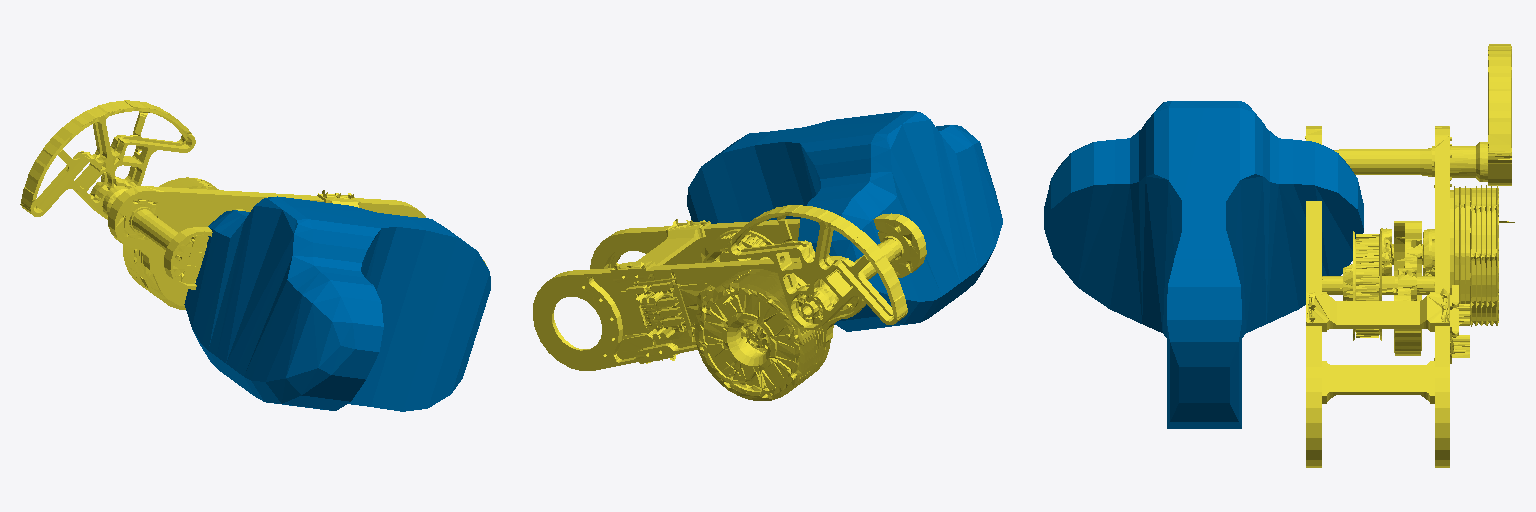
robot.urdf — drc_skeleton:
<?xml version="1.0"?>
<robot name="drc_skeleton">

    <link name="base_link" />

    <link name="r_foot">
        <inertial>
            <mass value="4.05" />
            <origin xyz="0.027 0 -0.067" rpy="0 -0 0" />
            <inertia ixx="0.002" ixy="0" ixz="0" iyy="0.007" iyz="0" izz="0.008" />
        </inertial>
        <visual>
            <origin xyz="0 0.1 0" rpy="0 -0 0" />
            <geometry>
                <mesh filename="package://atlas_description/meshes_v3/r_foot.dae" scale="1 1 1" />
            </geometry>
        </visual>
        <visual>
            <origin xyz="0 -0.1 0" rpy="0 -0 0" />
            <geometry>
                <mesh filename="package://atlas_description/meshes_v3/l_foot.dae" scale="1 1 1" />
            </geometry>
        </visual>
        <collision>
            <origin xyz="0 0.1 0" rpy="0 -0 0" />
            <geometry>
                <mesh filename="package://atlas_description/meshes_v3/r_foot.stl" scale="1 1 1" />
            </geometry>
        </collision>
    </link>
    
    <link name="r_lleg">
        <inertial>
            <mass value="11.0" />
            <origin xyz="0 0 0.23" rpy="0 -0 0" />
            <inertia ixx="0.077" ixy="-0" ixz="-0.003" iyy="0.076" iyz="-0" izz="0.01" />
        </inertial>

        <visual>
            <origin xyz="0 -0.1 0.422" rpy="0 -0 0" />
            <geometry>
                <mesh filename="package://atlas_description/meshes_v3/r_lleg.dae" scale="1 1 1" />
            </geometry>
        </visual>
        <visual>
            <origin xyz="0 0.1 0.422" rpy="0 -0 0" />
            <geometry>
                <mesh filename="package://atlas_description/meshes_v3/l_lleg.dae" scale="1 1 1" />
            </geometry>
        </visual>

        <collision>
            <origin xyz="0 0 0.422" rpy="0 -0 0" />
            <geometry>
                <mesh filename="package://atlas_description/meshes_v3/r_lleg.stl" scale="1 1 1" />
            </geometry>
        </collision>
    </link>
    
    <link name="r_uleg">
        <inertial>
            <mass value="18.4" />
            <origin xyz="0 0 0.16" rpy="0 -0 0" />
            <inertia ixx="0.09" ixy="0" ixz="0" iyy="0.09" iyz="0" izz="0.02" />
        </inertial>
        <visual>
            <origin xyz="0.05 -0.1 0.374" rpy="0 -0 0" />
            <geometry>
                <mesh filename="package://atlas_description/meshes_v3/r_uleg.dae" scale="1 1 1" />
            </geometry>
        </visual>

        <visual>
            <origin xyz="0.05 0.1 0.374" rpy="0 -0 0" />
            <geometry>
                <mesh filename="package://atlas_description/meshes_v3/l_uleg.dae" scale="1 1 1" />
            </geometry>
        </visual>

        <collision>
            <origin xyz="0.05 0 0.374" rpy="0 -0 0" />
            <geometry>
                <mesh filename="package://atlas_description/meshes_v3/r_uleg.stl" scale="1 1 1" />
            </geometry>
        </collision>
    </link>
    
    <link name="pelvis">
        <inertial>
            <mass value="17.882" />
            <origin xyz="0.0111 0 0.0271" rpy="0 -0 0" />
            <inertia ixx="0.1244" ixy="0.0008" ixz="-0.0007" iyy="0.0958" iyz="-0.0005" izz="0.1167" />
        </inertial>
        <visual>
            <origin xyz="0 0 0" rpy="0 -0 0" />
            <geometry>
                <mesh filename="package://atlas_description/meshes_v3/pelvis.dae" scale="1 1 1" />
            </geometry>
        </visual>
        <collision>
            <origin xyz="0 0 0" rpy="0 -0 0" />
            <geometry>
                <mesh filename="package://atlas_description/meshes_v3/pelvis.stl" scale="1 1 1" />
            </geometry>
        </collision>
    </link>
    
    <link name="ltorso">
    <inertial>
      <mass value="2.409" />
      <origin xyz="-0.0112984 -3.15366e-06 0.0746835" rpy="0 -0 0" />
      <inertia ixx="0.0039092" ixy="-5.04491e-08" ixz="-0.000342157" iyy="0.00341694" iyz="4.87119e-07" izz="0.00174492" />
    </inertial>
    <visual>
      <origin xyz="0 0 0" rpy="0 -0 0" />
      <geometry>
        <mesh filename="package://atlas_description/meshes_v3/ltorso.dae" scale="1 1 1" />
      </geometry>
    </visual>
  </link>
  
  <link name="mtorso">
        <inertial>
            <mass value="0.69" />
            <origin xyz="-0.00816266 -0.0131245 0.0305974" rpy="0 -0 0" />
            <inertia ixx="0.000454181" ixy="-6.10764e-05" ixz="3.94009e-05" iyy="0.000483282" iyz="5.27463e-05" izz="0.000444215" />
        </inertial>
        <visual>
            <origin xyz="0 0 0" rpy="0 -0 0" />
            <geometry>
                <mesh filename="package://atlas_description/meshes_v3/mtorso.dae" scale="1 1 1" />
            </geometry>
        </visual>
        <collision>
            <origin xyz="0 0 0" rpy="0 -0 0" />
            <geometry>
                <mesh filename="package://atlas_description/meshes_v3/mtorso.stl" scale="1 1 1" />
            </geometry>
        </collision>
    </link>
    
    <link name="utorso">
        <inertial>
            <mass value="63.73" />
            <origin xyz="-0.0581 0 0.3056" rpy="0 -0 0" />
            <inertia ixx="1.466" ixy="0.00362" ixz="0.336" iyy="1.51" iyz="0.001" izz="1.3" />
        </inertial>
        <visual>
            <origin xyz="0 0 0" rpy="0 -0 0" />
            <geometry>
                <mesh filename="package://atlas_description/meshes_v3/utorso.dae" scale="1 1 1" />
            </geometry>
        </visual>
        <collision>
            <origin xyz="0 0 0" rpy="0 -0 0" />
            <geometry>
                <mesh filename="package://atlas_description/meshes_v3/utorso.stl" scale="1 1 1" />
            </geometry>
        </collision>
        <visual>
            <origin xyz="0 0 0" rpy="0 -0 0" />
            <geometry>
                <mesh filename="package://atlas_description/meshes_v3/utorso_pack.dae" scale="1 1 1" />
            </geometry>
        </visual>
        <collision>
            <origin xyz="0 0 0" rpy="0 -0 0" />
            <geometry>
                <mesh filename="package://atlas_description/meshes_v3/utorso_pack.stl" scale="1 1 1" />
            </geometry>
        </collision>
    </link>
    
    
    <link name="r_clav">
        <inertial>
            <mass value="3.45" />
            <!--origin xyz="0 0.00 -0.284" rpy="0.5 -0 0" -->  
            <origin xyz="0 0.00 -0.284" rpy="0.0 -0 0" />
            <inertia ixx="0.011" ixy="0" ixz="0" iyy="0.009" iyz="0.004" izz="0.004" />
        </inertial>
        <visual>
            <origin xyz="0 0.048 -0.45" rpy="0 -0 0" />
            <geometry>
                <mesh filename="package://atlas_description/meshes_v3/r_clav.dae" scale="1 1 1" />
            </geometry>
        </visual>
        <collision>
            <origin xyz="0 0.048 -0.45" rpy="0 -0 0" />
            <geometry>
                <mesh filename="package://atlas_description/meshes_v3/r_clav.stl" scale="1 1 1" />
            </geometry>
        </collision>
    </link>
    
    <link name="l_clav">
        <inertial>
            <mass value="3.45" />
            <!--origin xyz="0 0.00 -0.284" rpy="0.5 -0 0" -->
            <origin xyz="0 0.00 -0.284" rpy="0.0 -0 0" />
            <inertia ixx="0.011" ixy="0" ixz="0" iyy="0.009" iyz="-0.004" izz="0.004" />
        </inertial>
        <visual>
            <origin xyz="0 -0.048 -0.45" rpy="0 -0 0" />
            <geometry>
                <mesh filename="package://atlas_description/meshes_v3/l_clav.dae" scale="1 1 1" />
            </geometry>
        </visual>
        <collision>
            <origin xyz="0 -0.048 -0.45" rpy="0 -0 0" />
            <geometry>
                <mesh filename="package://atlas_description/meshes_v3/l_clav.stl" scale="1 1 1" />
            </geometry>
        </collision>
    </link>
    
    <link name="r_scap">
        <inertial>
            <mass value="3.012" />
            <origin xyz="0 0 0" rpy="0 -0 0" />
            <inertia ixx="0.00319" ixy="0" ixz="0" iyy="0.00583" iyz="0" izz="0.00583" />
        </inertial>
        <visual>
            <origin xyz="0 0 0" rpy="0 -0 0" />
            <geometry>
                <mesh filename="package://atlas_description/meshes_v3/r_scap.dae" scale="1 1 1" />
            </geometry>
        </visual>
        <collision>
            <origin xyz="0 0 0" rpy="0 -0 0" />
            <geometry>
                <mesh filename="package://atlas_description/meshes_v3/r_scap.stl" scale="1 1 1" />
            </geometry>
        </collision>
    </link>
    
    <link name="l_scap">
        <inertial>
            <mass value="3.012" />
            <origin xyz="0 0 0" rpy="0 -0 0" />
            <inertia ixx="0.00319" ixy="0" ixz="0" iyy="0.00583" iyz="0" izz="0.00583" />
        </inertial>
        <visual>
            <origin xyz="0 0 0" rpy="0 -0 0" />
            <geometry>
                <mesh filename="package://atlas_description/meshes_v3/l_scap.dae" scale="1 1 1" />
            </geometry>
        </visual>
        <collision>
            <origin xyz="0 0 0" rpy="0 -0 0" />
            <geometry>
                <mesh filename="package://atlas_description/meshes_v3/l_scap.stl" scale="1 1 1" />
            </geometry>
        </collision>
    </link>

    <link name="r_uarm">
        <inertial>
            <mass value="3.388" />
            <origin xyz="0 0.065 0" rpy="0 -0 0" />
            <inertia ixx="0.00656" ixy="0" ixz="0" iyy="0.00358" iyz="0" izz="0.00656" />
        </inertial>
        <visual>
            <origin xyz="0 0 0" rpy="0 -0 0" />
            <geometry>
                <mesh filename="package://atlas_description/meshes_v3/r_uarm.dae" scale="1 1 1" />
            </geometry>
        </visual>
        <collision>
            <origin xyz="0 0 0" rpy="0 -0 0" />
            <geometry>
                <mesh filename="package://atlas_description/meshes_v3/r_uarm.stl" scale="1 1 1" />
            </geometry>
        </collision>
    </link>
    
        <link name="l_uarm">
        <inertial>
            <mass value="3.388" />
            <origin xyz="0 -0.065 0" rpy="0 -0 0" />
            <inertia ixx="0.00656" ixy="0" ixz="0" iyy="0.00358" iyz="0" izz="0.00656" />
        </inertial>
        <visual>
            <origin xyz="0 0 0" rpy="0 -0 0" />
            <geometry>
                <mesh filename="package://atlas_description/meshes_v3/l_uarm.dae" scale="1 1 1" />
            </geometry>
        </visual>
        <collision>
            <origin xyz="0 0 0" rpy="0 -0 0" />
            <geometry>
                <mesh filename="package://atlas_description/meshes_v3/l_uarm.stl" scale="1 1 1" />
            </geometry>
        </collision>
    </link>
    
   <link name="r_larm">
        <inertial>
            <mass value="2.509" />
            <origin xyz="0 0 0" rpy="0 -0 0" />
            <inertia ixx="0.00265" ixy="0" ixz="0" iyy="0.00446" iyz="0" izz="0.00446" />
        </inertial>
        <visual>
            <origin xyz="0 0 0" rpy="0 -0 0" />
            <geometry>
                <mesh filename="package://atlas_description/meshes_v3/r_larm.dae" scale="1 1 1" />
            </geometry>
        </visual>
        <collision>
            <origin xyz="0 0 0" rpy="0 -0 0" />
            <geometry>
                <mesh filename="package://atlas_description/meshes_v3/r_larm.stl" scale="1 1 1" />
            </geometry>
        </collision>
    </link>
    
    <link name="l_larm">
        <inertial>
            <mass value="2.509" />
            <origin xyz="0 0 0" rpy="0 -0 0" />
            <inertia ixx="0.00265" ixy="0" ixz="0" iyy="0.00446" iyz="0" izz="0.00446" />
        </inertial>
        <visual>
            <origin xyz="0 0 0" rpy="0 -0 0" />
            <geometry>
                <mesh filename="package://atlas_description/meshes_v3/l_larm.dae" scale="1 1 1" />
            </geometry>
        </visual>
        <collision>
            <origin xyz="0 0 0" rpy="0 -0 0" />
            <geometry>
                <mesh filename="package://atlas_description/meshes_v3/l_larm.stl" scale="1 1 1" />
            </geometry>
        </collision>
    </link>
    
    <link name="r_farm">
        <inertial>
            <mass value="3.388" />
            <origin xyz="0 0.065 0" rpy="0 -0 0" />
            <inertia ixx="0.00656" ixy="0" ixz="0" iyy="0.00358" iyz="0" izz="0.00656" />
        </inertial>
        <visual>
            <origin xyz="0 0 0" rpy="0 -0 0" />
            <geometry>
                <mesh filename="package://atlas_description/meshes_v3/r_farm.dae" scale="1 1 1" />
            </geometry>
        </visual>
        <collision>
            <origin xyz="0 0 0" rpy="0 -0 0" />
            <geometry>
                <mesh filename="package://atlas_description/meshes_v3/r_farm.stl" scale="1 1 1" />
            </geometry>
        </collision>
    </link>
    
    <link name="l_farm">
        <inertial>
            <mass value="3.388" />
            <origin xyz="0 -0.065 0" rpy="0 -0 0" />
            <inertia ixx="0.00656" ixy="0" ixz="0" iyy="0.00358" iyz="0" izz="0.00656" />
        </inertial>
        <visual>
            <origin xyz="0 0 0" rpy="0 -0 0" />
            <geometry>
                <mesh filename="package://atlas_description/meshes_v3/l_farm.dae" scale="1 1 1" />
            </geometry>
        </visual>
        <collision>
            <origin xyz="0 0 0" rpy="0 -0 0" />
            <geometry>
                <mesh filename="package://atlas_description/meshes_v3/l_farm.stl" scale="1 1 1" />
            </geometry>
        </collision>
    </link>
    
    <link name="r_hand">
        <inertial>
            <mass value="2.509" />
            <origin xyz="0 0 0" rpy="0 -0 0" />
            <inertia ixx="0.00265" ixy="0" ixz="0" iyy="0.00446" iyz="0" izz="0.00446" />
        </inertial>
        <visual>
            <origin xyz="0 0 0" rpy="0 -0 0" />
            <geometry>
                <mesh filename="package://atlas_description/meshes_v3/r_hand.dae" scale="1 1 1" />
            </geometry>
        </visual>
        <collision>
            <origin xyz="0 0 0" rpy="0 -0 0" />
            <geometry>
                <mesh filename="package://atlas_description/meshes_v3/r_hand.stl" scale="1 1 1" />
            </geometry>
        </collision>
    </link>
      
    <link name="l_hand">
        <inertial>
            <mass value="2.509" />
            <origin xyz="0 0 0" rpy="0 -0 0" />
            <inertia ixx="0.00265" ixy="0" ixz="0" iyy="0.00446" iyz="0" izz="0.00446" />
        </inertial>
        <visual>
            <origin xyz="0 0 0" rpy="0 -0 0" />
            <geometry>
                <mesh filename="package://atlas_description/meshes_v3/l_hand.dae" scale="1 1 1" />
            </geometry>
        </visual>
        <collision>
            <origin xyz="0 0 0" rpy="0 -0 0" />
            <geometry>
                <mesh filename="package://atlas_description/meshes_v3/l_hand.stl" scale="1 1 1" />
            </geometry>
        </collision>
    </link>  
    

    <joint name="base_to_right_foot" type="fixed">
        <parent link="base_link"/>
        <child link="r_foot"/>
    </joint>

    <joint name="r_leg_aky" type="revolute">
        <origin xyz="-0.07 0 0.15" rpy="0 -0 0" />
        <axis xyz="0 -1 0" />
        <parent link="r_foot" />
        <child link="r_lleg" />
        <dynamics damping="0.1" friction="0" />
        <limit effort="350" velocity="12" lower="-1" upper="0.7" />
        <safety_controller k_position="100" k_velocity="100" soft_lower_limit="-11" soft_upper_limit="10.7" />
    </joint>
    <joint name="r_leg_kny" type="revolute">
        <origin xyz="0 0 0.422" rpy="0 -0 0" />
        <axis xyz="0 -1 0" />
        <parent link="r_lleg" />
        <child link="r_uleg" />
        <dynamics damping="0.1" friction="0" />
        <limit effort="246" velocity="12" lower="0.1" upper="2.35637" />
        <safety_controller k_position="100" k_velocity="100" soft_lower_limit="-10" soft_upper_limit="12.3564" />
    </joint>
    <joint name="r_leg_hpy" type="revolute">
        <origin xyz="0.05  -0.111 0.374" rpy="0 -0 0" />
        <axis xyz="0 -1 0" />
        <parent link="r_uleg" />
        <child link="pelvis" />
        <dynamics damping="0.1" friction="0" />
        <limit effort="400" velocity="12" lower="-1.61234" upper="0.65764" />
        <safety_controller k_position="100" k_velocity="100" soft_lower_limit="-11.6123" soft_upper_limit="10.6576" />
    </joint>

    <joint name="back_bkx" type="revolute">
        <origin xyz="0 0 0.05" rpy="0 -0 0" />
        <axis xyz="1 0 0" />
        <parent link="mtorso" />
        <child link="utorso" />
        <dynamics damping="0.1" friction="0" />
        <limit effort="163" velocity="12" lower="-0.523599" upper="0.523599" />
        <safety_controller k_position="100" k_velocity="100" soft_lower_limit="-10.5236" soft_upper_limit="10.5236" />
    </joint>
    <joint name="back_bky" type="revolute">
        <origin xyz="0 0 0.162" rpy="0 -0 0" />
        <axis xyz="0 1 0" />
        <parent link="ltorso" />
        <child link="mtorso" />
        <dynamics damping="0.1" friction="0" />
        <limit effort="245" velocity="9" lower="-0.219388" upper="0.538783" />
        <safety_controller k_position="100" k_velocity="100" soft_lower_limit="-10.2194" soft_upper_limit="10.5388" />
    </joint>
    <joint name="back_bkz" type="revolute">
        <origin xyz="-0.0125 0 0" rpy="0 -0 0" />
        <axis xyz="0 0 1" />
        <parent link="pelvis" />
        <child link="ltorso" />
        <dynamics damping="0.1" friction="0" />
        <limit effort="62" velocity="12" lower="-0.663225" upper="0.663225" />
        <safety_controller k_position="100" k_velocity="100" soft_lower_limit="-10.6632" soft_upper_limit="10.6632" />
    </joint>

    <joint name="r_arm_shz" type="revolute">
        <origin xyz="0.1406 -0.2036 0.4776" rpy="0 -0 0" />
        <axis xyz="0 0 1" /> <!-- note, this is opposite of v1 and v3 -->
        <parent link="utorso" />
        <child link="r_clav" />
        <dynamics damping="0.1" friction="0" />
        <limit effort="198" velocity="12" lower="-0.785398" upper="1.5708" />
        <safety_controller k_position="100" k_velocity="100" soft_lower_limit="-10.7854" soft_upper_limit="11.5708" />
    </joint>
    <joint name="r_arm_shx" type="revolute">
        <origin xyz="0 -0.0981 -0.2511" rpy="0 -0 0" />
        <axis xyz="1 0 0" />
        <parent link="r_clav" />
        <child link="r_scap" />
        <dynamics damping="0.1" friction="0" />
        <limit effort="159" velocity="12" lower="-1.5708" upper="1.5708" />
        <safety_controller k_position="100" k_velocity="100" soft_lower_limit="-11.5708" soft_upper_limit="11.5708" />
    </joint>
    <joint name="r_arm_ely" type="revolute">
        <origin xyz="0 -0.187 0.016" rpy="0 -0 0" />
        <axis xyz="0 1 0" />
        <parent link="r_scap" />
        <child link="r_uarm" />
        <dynamics damping="0.1" friction="0" />
        <limit effort="106" velocity="12" lower="0" upper="3.14159" />
        <safety_controller k_position="100" k_velocity="100" soft_lower_limit="-10" soft_upper_limit="13.1416" />
    </joint>
    <joint name="r_arm_elx" type="revolute">
        <origin xyz="0 -0.119 0.0092" rpy="0 -0 0" />
        <axis xyz="1 0 0" />
        <parent link="r_uarm" />
        <child link="r_larm" />
        <dynamics damping="0.1" friction="0" />
        <limit effort="159" velocity="12" lower="-2.35619" upper="-0.2" />
        <safety_controller k_position="100" k_velocity="100" soft_lower_limit="-12.3562" soft_upper_limit="10" />
    </joint>
    <joint name="r_arm_wry" type="revolute">
        <origin xyz="0 -0.187 -0.0092" rpy="0 -0 0" />
        <axis xyz="0 1 0" />
        <parent link="r_larm" />
        <child link="r_farm" />
        <dynamics damping="0.1" friction="0" />
        <limit effort="106" velocity="12" lower="0" upper="3.14159" />
        <safety_controller k_position="100" k_velocity="100" soft_lower_limit="-10" soft_upper_limit="13.1416" />
    </joint>
    <joint name="r_arm_wrx" type="revolute">
        <origin xyz="0 -0.119 0.0092" rpy="0 -0 0" />
        <axis xyz="1 0 0" />
        <parent link="r_farm" />
        <child link="r_hand" />
        <dynamics damping="0.1" friction="0" />
        <limit effort="56" velocity="12" lower="-1.1781" upper="1.1781" />
        <safety_controller k_position="100" k_velocity="100" soft_lower_limit="-11.1781" soft_upper_limit="11.1781" />
    </joint>

    <joint name="r_ee_fixed_joint" type="fixed">
        <parent link="r_hand"/>
        <child  link="r_ee_link"/>
        <origin rpy=" 0 0 -1.5708" xyz="0 -0.10  0"/>
    </joint>    
    <link name="r_ee_link"/>

	
	
	<joint name="l_arm_shz" type="revolute">
        <origin xyz="0.1406 0.2036 0.4776" rpy="0 -0 0" />
        <axis xyz="0 0 1" />
        <parent link="utorso" />
        <child link="l_clav" />
        <dynamics damping="0.1" friction="0" />
        <limit effort="198" velocity="12" lower="-1.5708" upper="0.785398" />
        <safety_controller k_position="100" k_velocity="100" soft_lower_limit="-11.5708" soft_upper_limit="10.7854" />
    </joint>
    
    <joint name="l_arm_shx" type="revolute">
        <origin xyz="0 0.0981 -0.2511" rpy="0 -0 0" />
        <axis xyz="1 0 0" />
        <parent link="l_clav" />
        <child link="l_scap" />
        <dynamics damping="0.1" friction="0" />
        <limit effort="159" velocity="12" lower="-1.5708" upper="1.5708" />
        <safety_controller k_position="100" k_velocity="100" soft_lower_limit="-11.5708" soft_upper_limit="11.5708" />
    </joint>
    
    <joint name="l_arm_ely" type="revolute">
        <origin xyz="0 0.187 0.016" rpy="0 -0 0" />
        <axis xyz="0 1 0" />
        <parent link="l_scap" />
        <child link="l_uarm" />
        <dynamics damping="0.1" friction="0" />
        <limit effort="106" velocity="12" lower="0" upper="3.14159" />
        <safety_controller k_position="100" k_velocity="100" soft_lower_limit="-10" soft_upper_limit="13.1416" />
    </joint>
    
    <joint name="l_arm_elx" type="revolute">
        <origin xyz="0 0.119 0.0092" rpy="0 -0 0" />
        <axis xyz="1 0 0" />
        <parent link="l_uarm" />
        <child link="l_larm" />
        <dynamics damping="0.1" friction="0" />
        <limit effort="159" velocity="12" lower="0" upper="2.35619" />
        <safety_controller k_position="100" k_velocity="100" soft_lower_limit="-10" soft_upper_limit="12.3562" />
    </joint>
    
    <joint name="l_arm_wry" type="revolute">
        <origin xyz="0 0.187 -0.0092" rpy="0 -0 0" />
        <axis xyz="0 1 0" />
        <parent link="l_larm" />
        <child link="l_farm" />
        <dynamics damping="0.1" friction="0" />
        <limit effort="106" velocity="12" lower="0" upper="3.14159" />
        <safety_controller k_position="100" k_velocity="100" soft_lower_limit="-10" soft_upper_limit="13.1416" />
    </joint>
    
    <joint name="l_arm_wrx" type="revolute">
        <origin xyz="0 0.119 0.0092" rpy="0 -0 0" />
        <axis xyz="1 0 0" />
        <parent link="l_farm" />
        <child link="l_hand" />
        <dynamics damping="0.1" friction="0" />
        <limit effort="56" velocity="12" lower="-1.1781" upper="1.1781" />
        <safety_controller k_position="100" k_velocity="100" soft_lower_limit="-11.1781" soft_upper_limit="11.1781" />
    </joint>

	<joint name="l_ee_fixed_joint" type="fixed">
        <parent link="l_hand"/>
        <child  link="l_ee_link"/>
        <origin rpy=" 0 0  1.5708" xyz=" 0 0.10  0"/>
    </joint>    
    <link name="l_ee_link"/>

</robot>

--- Render facts (derived) ---
The picture shows the robot from 3 angles, left to right: view 1: azimuth 30°, elevation 25°; view 2: azimuth 150°, elevation 25°; view 3: azimuth 270°, elevation 25°; orthographic projection.
Model drc_skeleton with 22 links and 21 joints (18 revolute, 3 fixed), rooted at base_link, posed all joints at 0 but 2 set to mid-range because 0 is outside their limits (r_leg_kny = 1.23, r_arm_elx = -1.28).
Visible links, largest first — view 1: pelvis, r_uleg; view 2: r_uleg, pelvis; view 3: pelvis, r_uleg.
Link boxes in pixels (bbox=[...]): pelvis: bbox=[184, 196, 490, 411]; r_uleg: bbox=[20, 100, 486, 309]; r_uleg: bbox=[533, 205, 926, 400]; pelvis: bbox=[687, 111, 1002, 331]; pelvis: bbox=[1044, 101, 1363, 428]; r_uleg: bbox=[1305, 44, 1514, 467].
Bounding box of the posed robot: 0.5407 × 0.5031 × 0.324 m (x, y, z).
2 mesh visuals loaded from 23 distinct referenced files (2 Collada DAE); not drawn: 21 (reference not matched to a file when rendering).